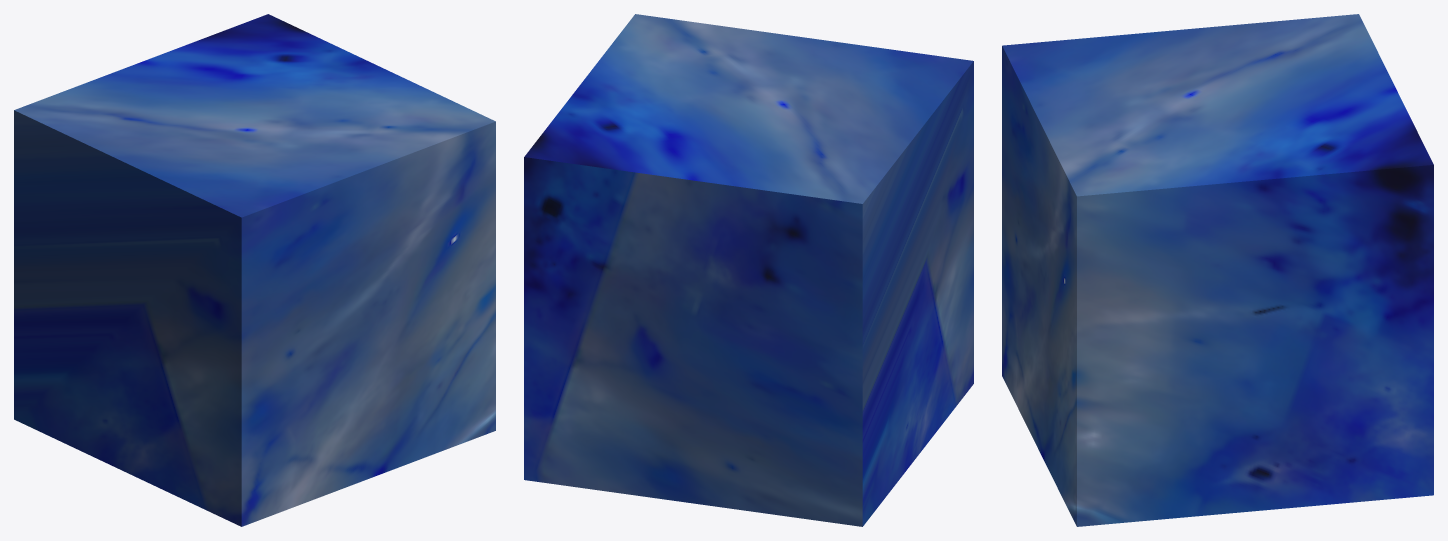
Rendered from BlueBlocks_17.gltf.
3 renders of one model, left to right at view 1: azimuth 30°, elevation 25°; view 2: azimuth 150°, elevation 25°; view 3: azimuth 270°, elevation 25°, orthographic. The views are drawn at different scales.
Parts seen in each view (by area): view 1: BlueBlocks_17; view 2: BlueBlocks_17; view 3: BlueBlocks_17.
Part boxes in pixels (<box>): BlueBlocks_17: <box>14,14,495,526</box>; BlueBlocks_17: <box>524,14,973,526</box>; BlueBlocks_17: <box>1002,14,1433,526</box>.
Bounding box in the file's own units: 2.15 × 1.81 × 2.15.
Materials: 1 (1 with a texture image).
